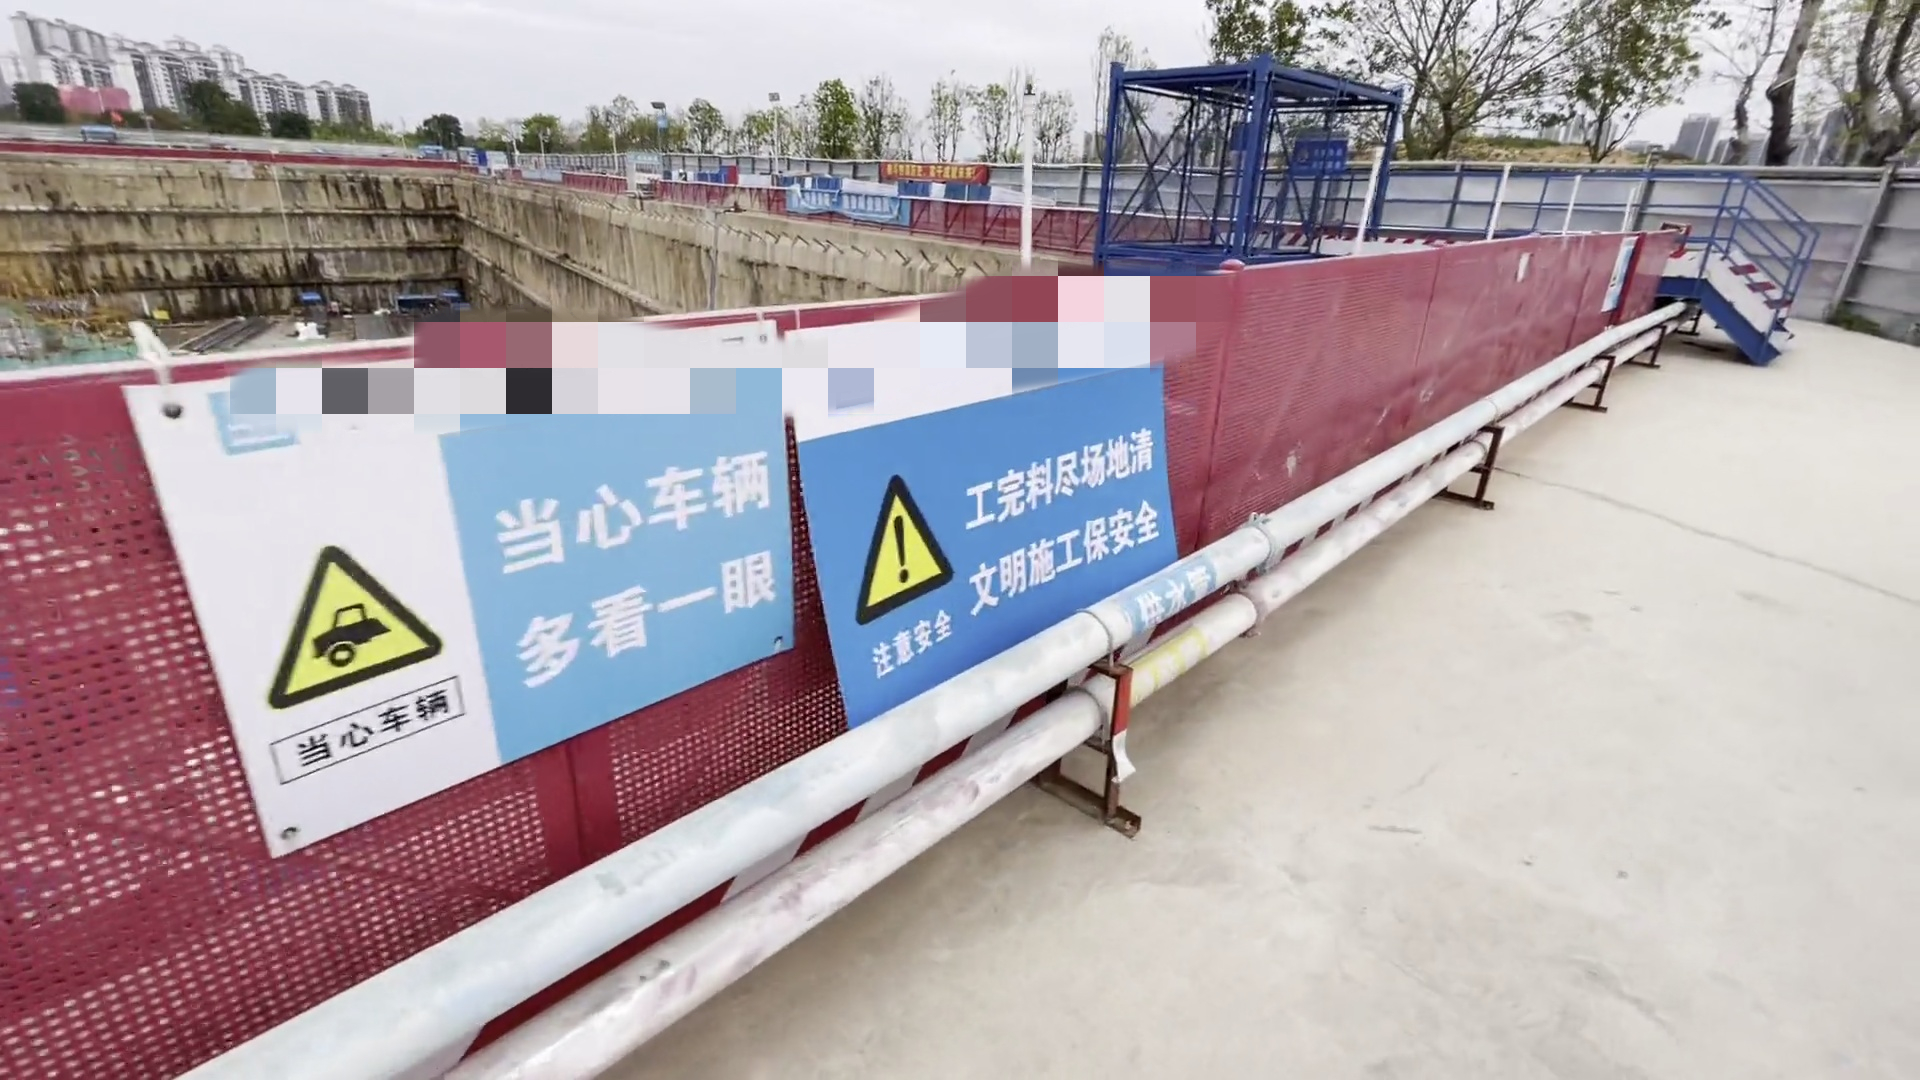fence: (1, 235, 1668, 1080)
slogan: (498, 438, 774, 696), (965, 430, 1156, 620), (785, 181, 903, 222), (880, 164, 989, 185)
